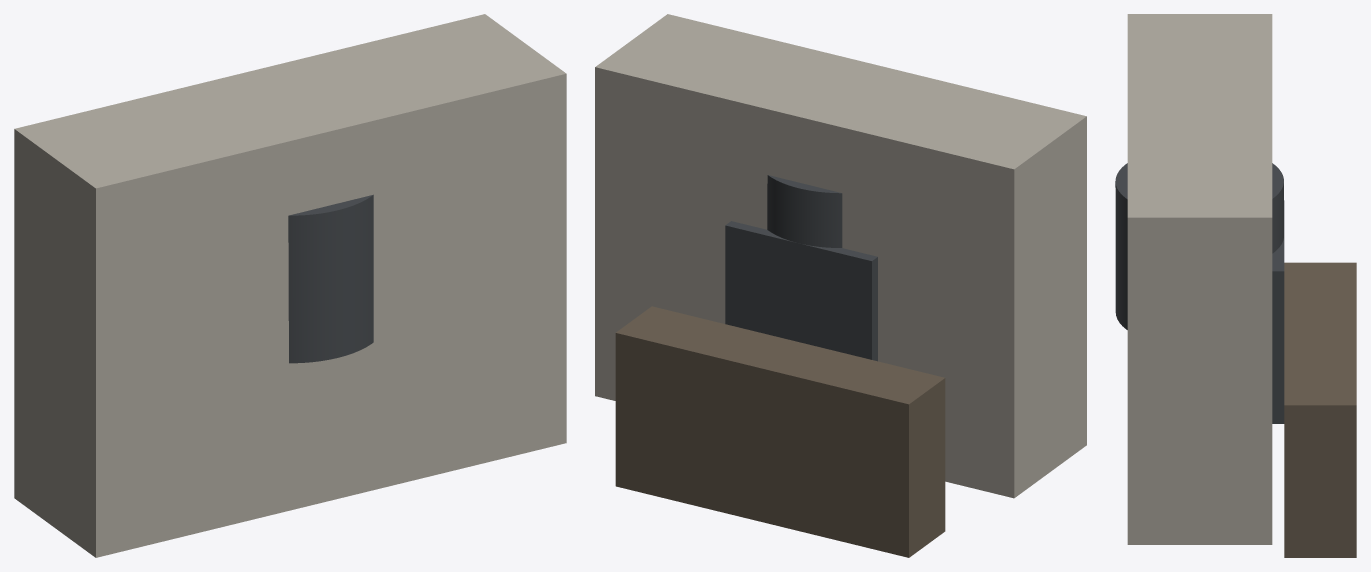
Rendered from f42-culvert-outfall.glb.
3 views of the same model, side by side, from view 1: azimuth 30°, elevation 25°; view 2: azimuth 150°, elevation 25°; view 3: azimuth 270°, elevation 25° (orthographic). The views are drawn at different scales.
Visible parts, largest first — view 1: part0, part1; view 2: part0, part3, part2, part1; view 3: part0, part3, part1, part2.
Part boxes in pixels (left/top/right/bottom): part0: left=14, top=14, right=566, bottom=557; part1: left=288, top=194, right=373, bottom=363; part0: left=595, top=14, right=1086, bottom=498; part3: left=615, top=306, right=945, bottom=557; part2: left=725, top=221, right=877, bottom=361; part1: left=767, top=175, right=842, bottom=247; part0: left=1127, top=14, right=1272, bottom=544; part3: left=1284, top=262, right=1356, bottom=557; part1: left=1115, top=163, right=1283, bottom=329; part2: left=1272, top=200, right=1284, bottom=423.
Size of the model in its own units: 2000 by 1700 by 1001.
